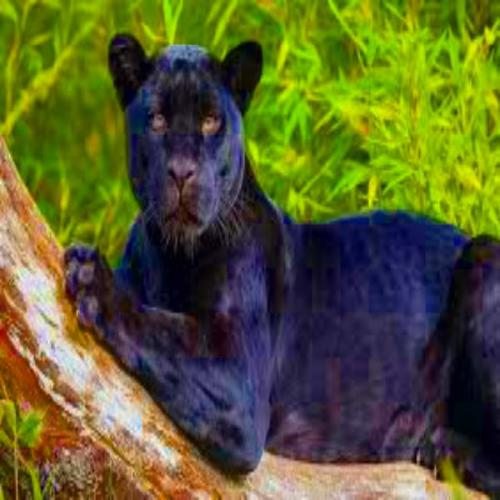panther-endangered: (62, 33, 500, 496)
